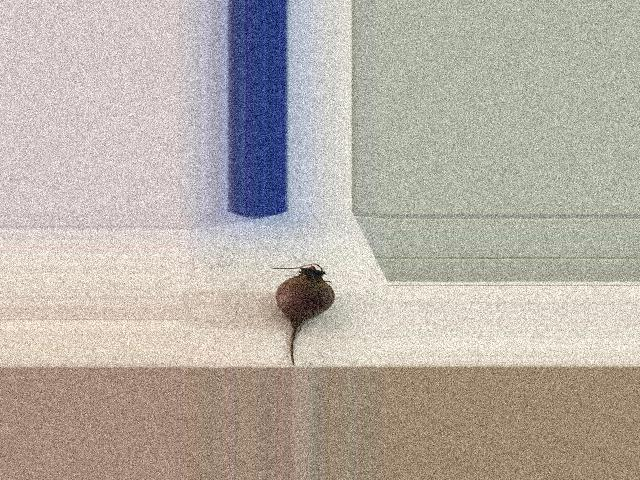beet: (271, 263, 333, 365)
